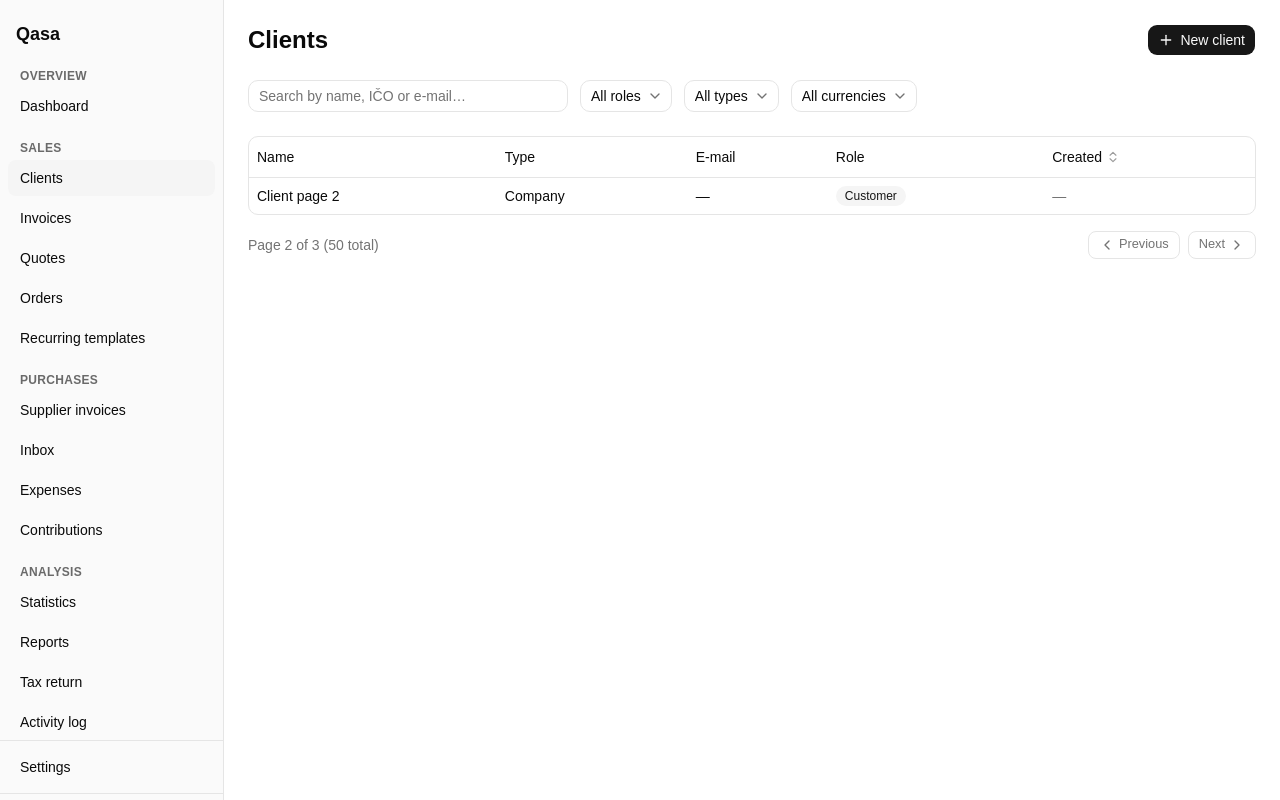
it: clients list › reflects the page from the URL and advances it on Next (state survives refresh)
Expected: the link "Client page 2" is shown, top-left (257, 188), bottom-right (340, 204)
Expected: the text "Page 2 of 3 (50 total)" is shown, top-left (248, 234), bottom-right (379, 254)
Click the button "Next".
click(1222, 244)  # box top-left (1188, 230), bottom-right (1256, 258)
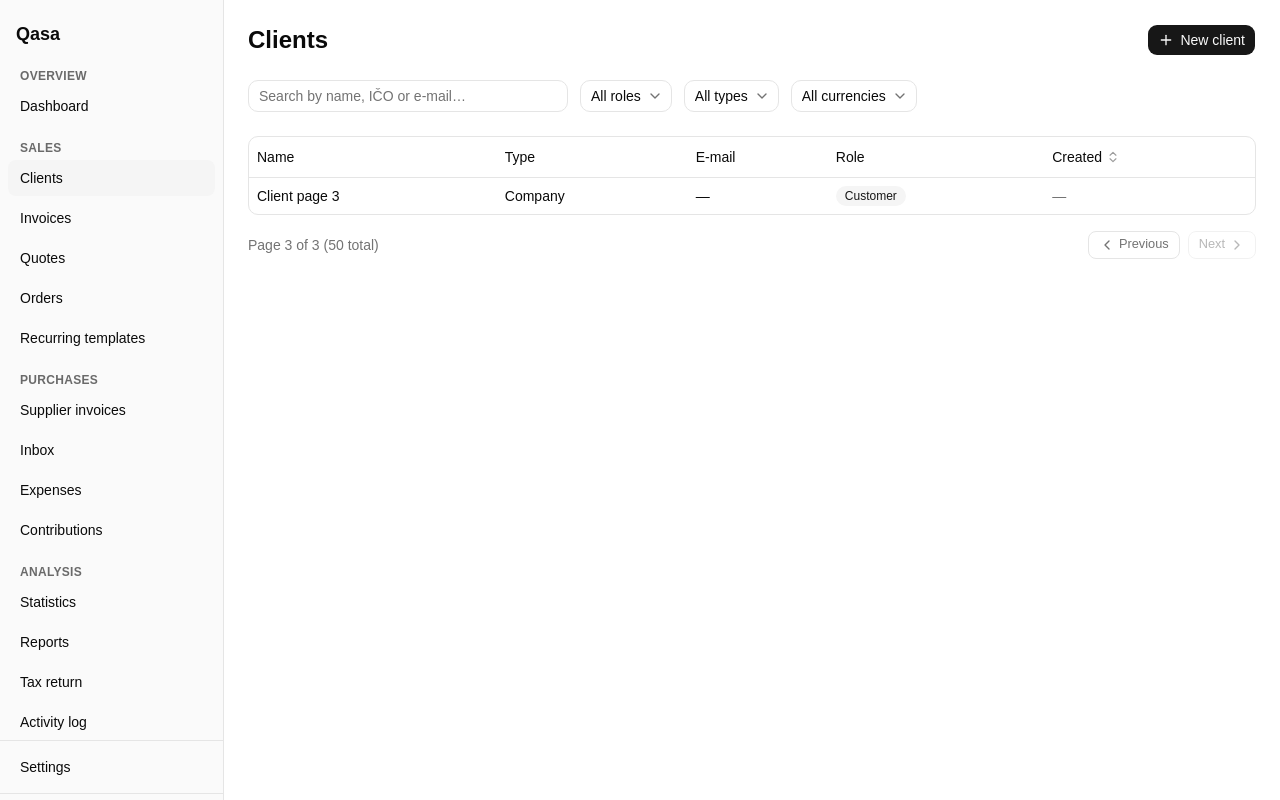
Expected: the link "Client page 3" is shown, top-left (257, 188), bottom-right (340, 204)
